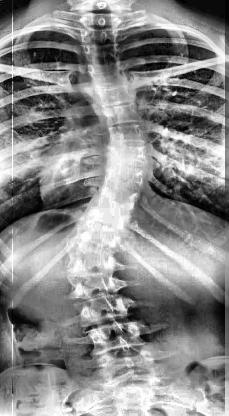Vertebrae: (73, 295, 139, 329), (84, 320, 150, 352), (92, 348, 154, 380), (63, 251, 126, 278), (61, 230, 123, 257), (74, 203, 130, 232), (64, 274, 130, 298), (87, 79, 142, 107), (100, 163, 152, 189), (92, 101, 146, 125), (89, 186, 143, 210), (97, 122, 150, 146), (101, 144, 151, 166), (82, 60, 132, 80), (74, 0, 128, 18), (78, 42, 126, 62), (76, 12, 126, 29), (76, 27, 122, 43)
